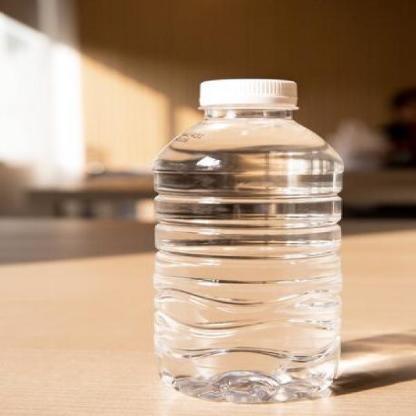Plastic Bottle: (154, 79, 344, 404)
